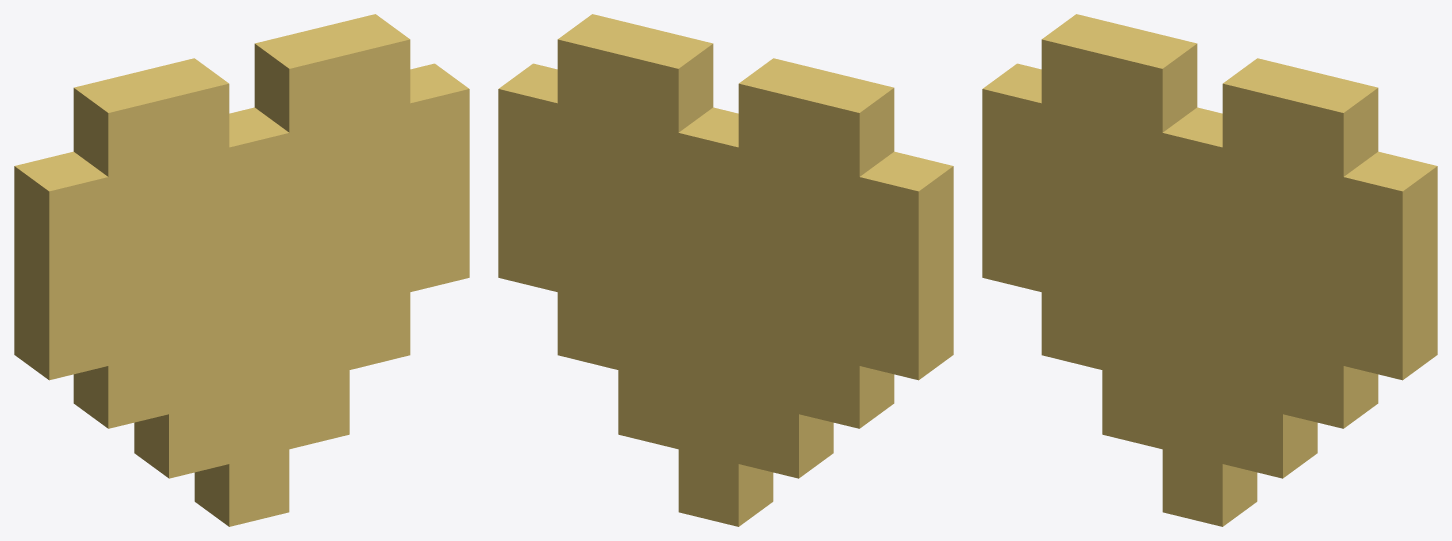
Rendered from Heart.fbx.
3 renders of one model, left to right at view 1: azimuth 30°, elevation 25°; view 2: azimuth 150°, elevation 25°; view 3: azimuth 330°, elevation 25°, orthographic.
Visible parts, largest first — view 1: pCube1; view 2: pCube1; view 3: pCube1.
Part boxes in pixels (x1,y1,x2,y2): pCube1: (14, 14, 469, 526); pCube1: (498, 14, 953, 526); pCube1: (982, 14, 1437, 526).
Bounding box in the file's own units: 22.83 × 23.01 × 3.27.
